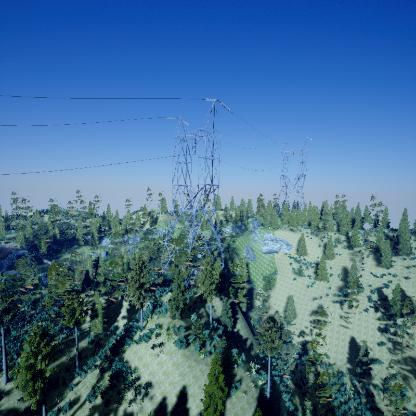tower: (163, 96, 234, 287), (273, 136, 314, 222)
